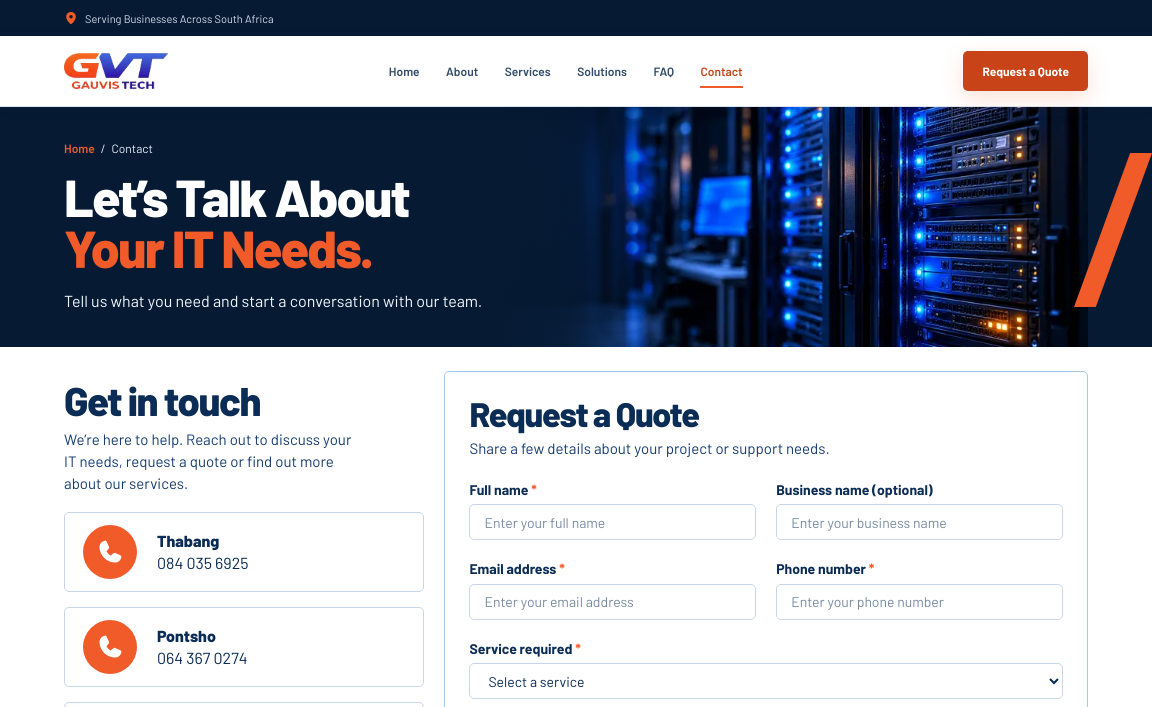
Contact route › connects API validation errors to fields without clearing the form
Type "Thandi Ndlovu" into the field labelled "Full name *" at (613, 522), box [469,504,756,540]
Type "thandi@example.com" into the field labelled "Email address *" at (613, 602), box [469,584,756,620]
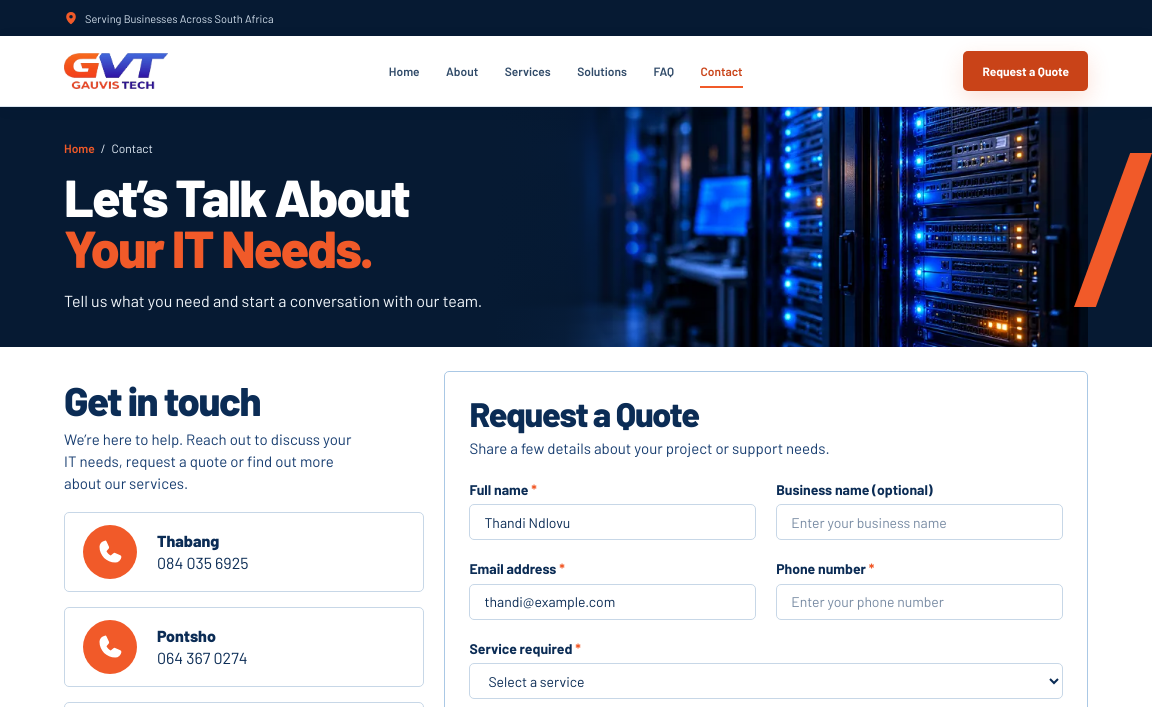
Type "+27 84 123 4567" into the field labelled "Phone number *" at (920, 602), box [776,584,1063,620]
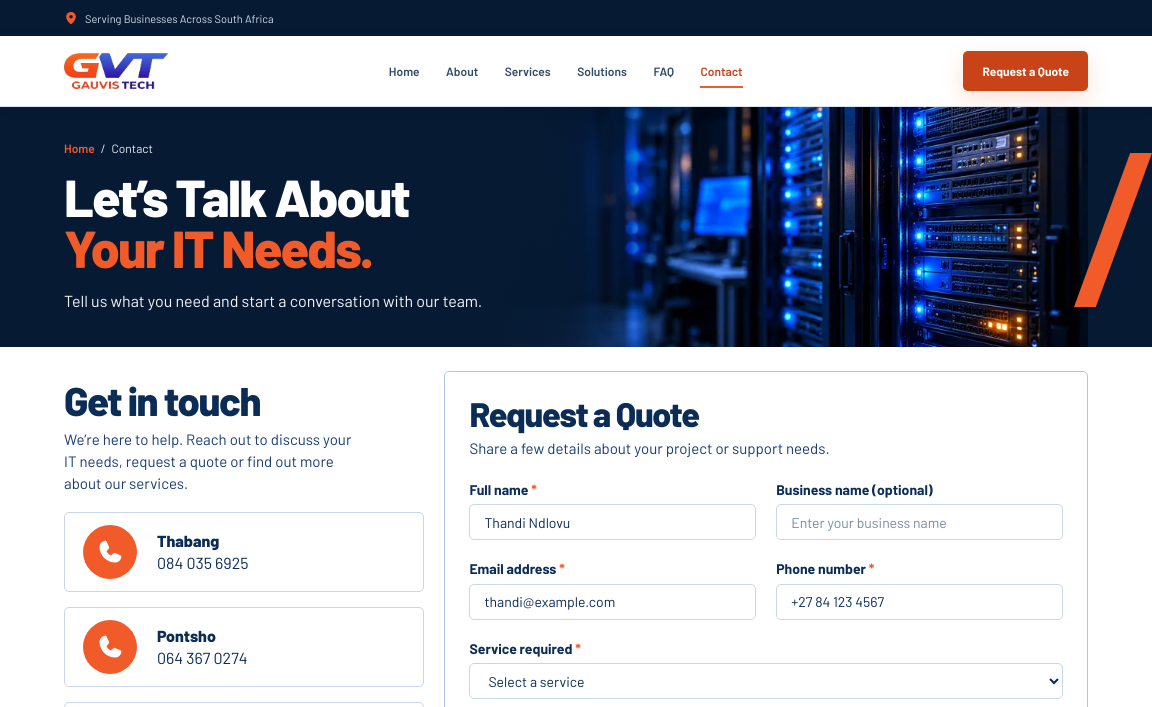
Select "Hardware Support" in the dropdown labelled "Service required *" at (766, 681), box [469,663,1063,699]
(page scrolled)
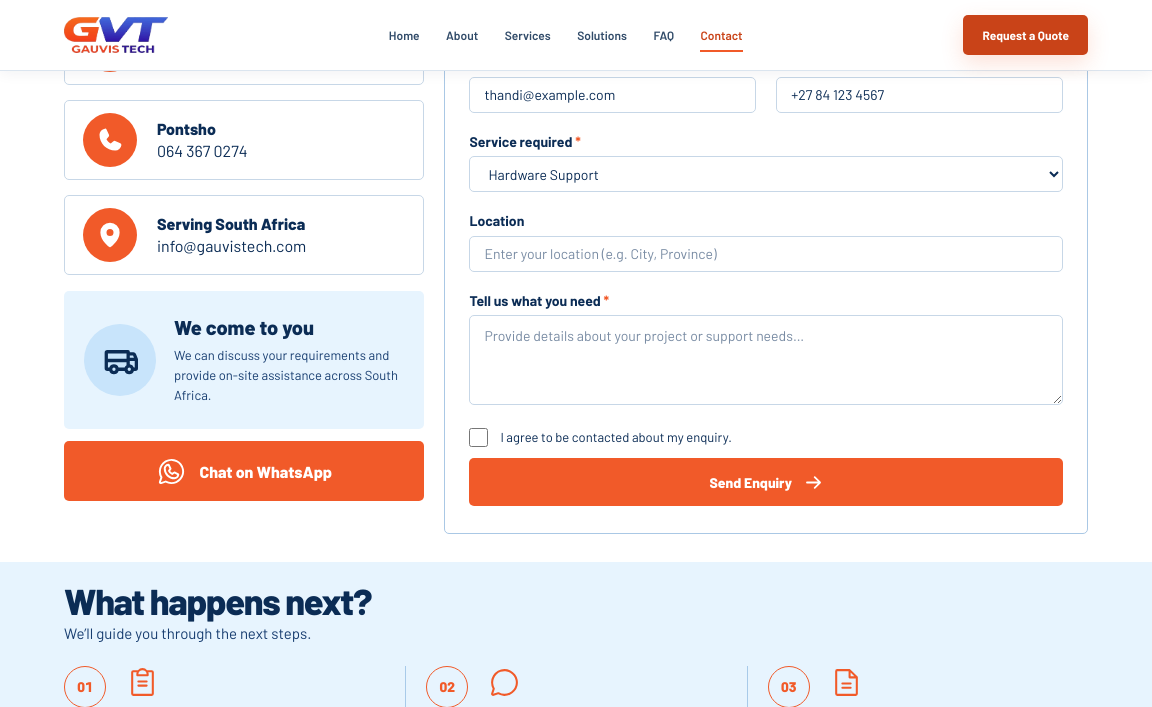
Type "Help with hardware." into the text box labelled "Tell us what you need *" at (766, 360), box [469,315,1063,405]
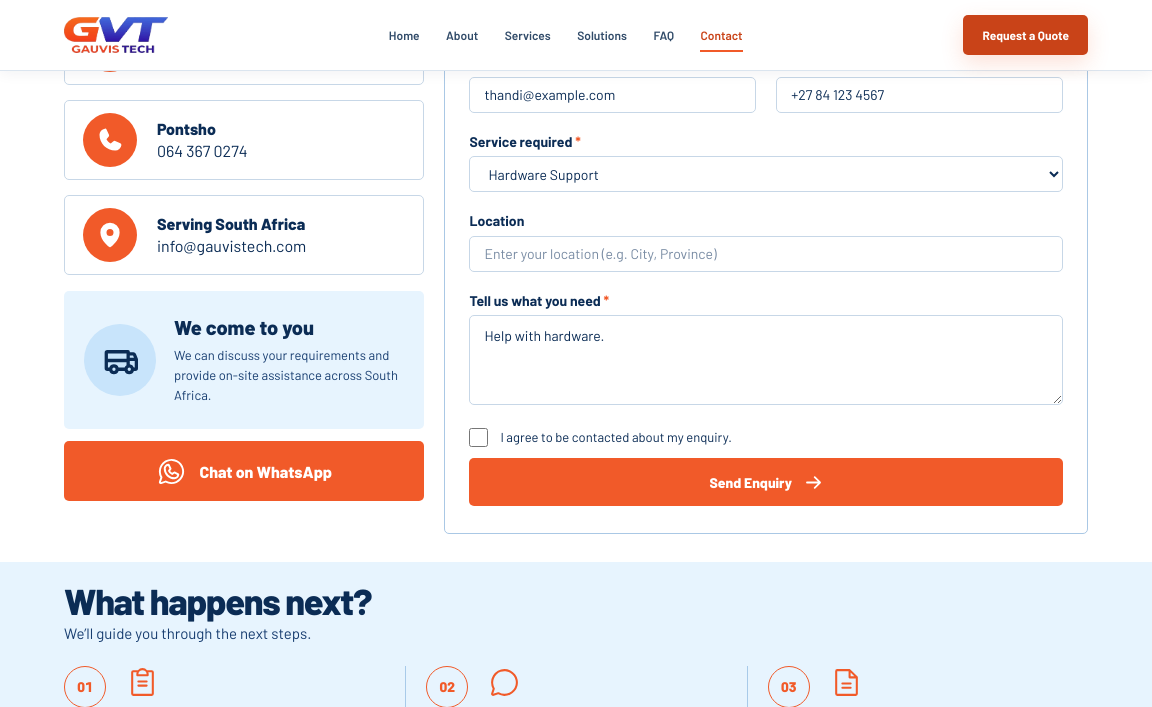
Click the checkbox labelled "I agree to be contacted about my enquiry." at (479, 437), box [469,428,488,447]
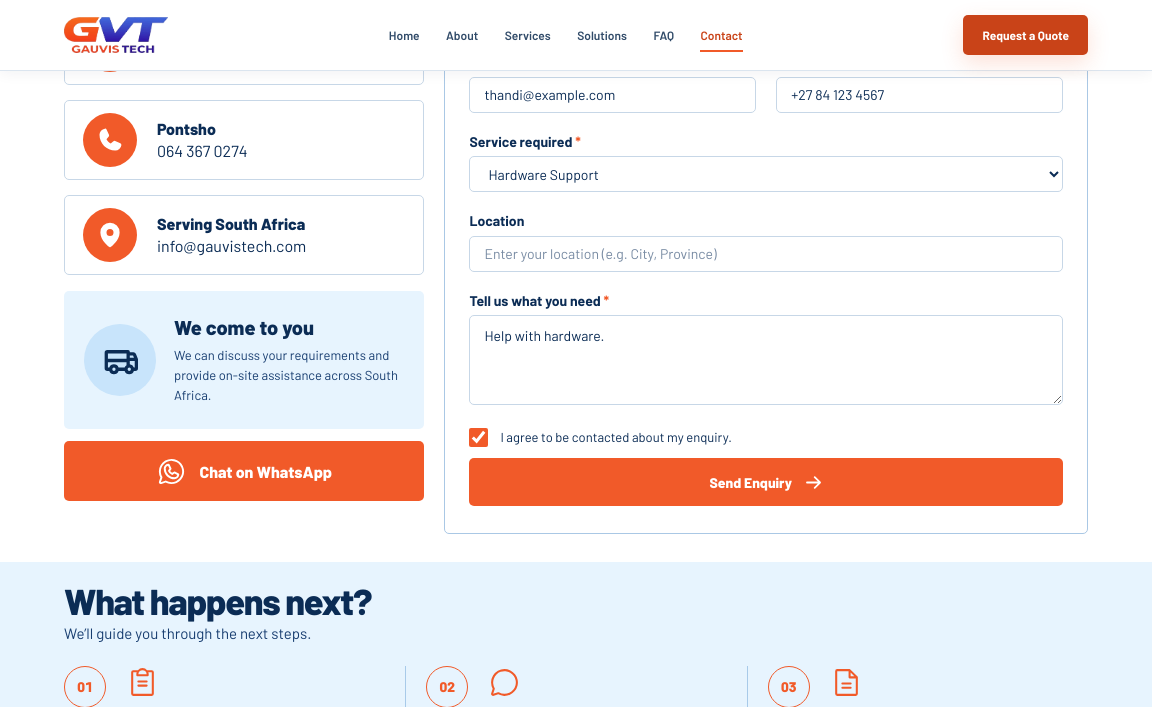
Click the button "Send Enquiry" at (766, 482), box [469,458,1063,506]
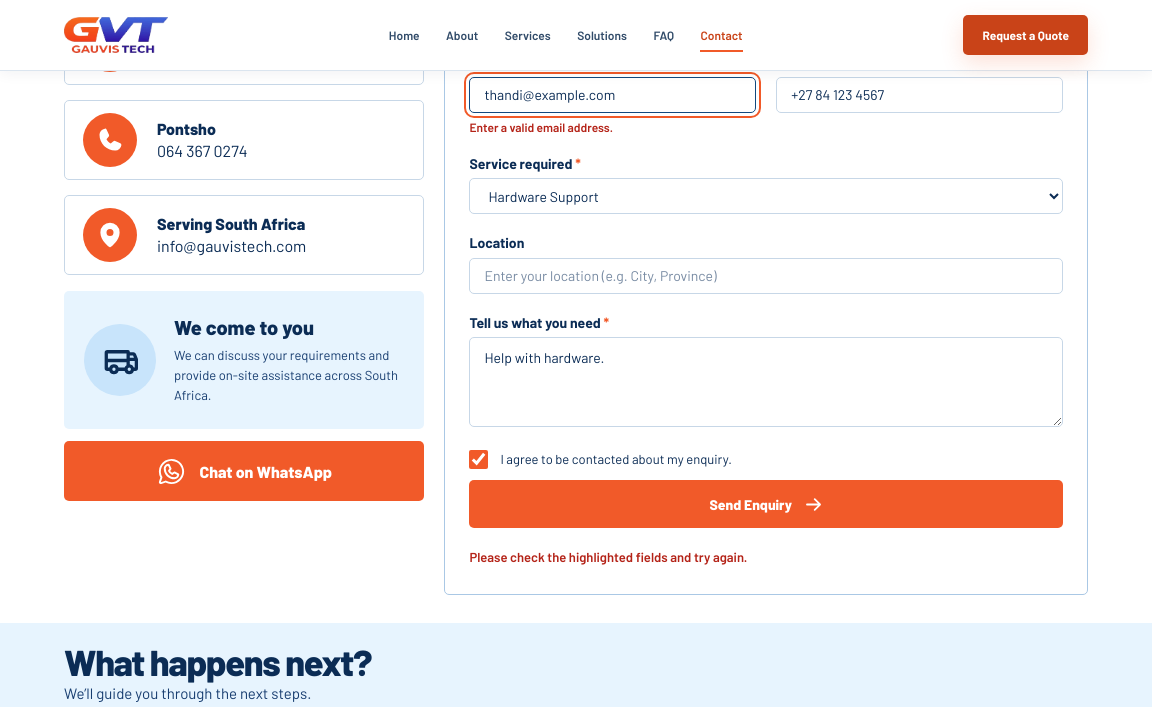
Check: the text "Enter a valid email address." is shown, box [469,120,613,134]
